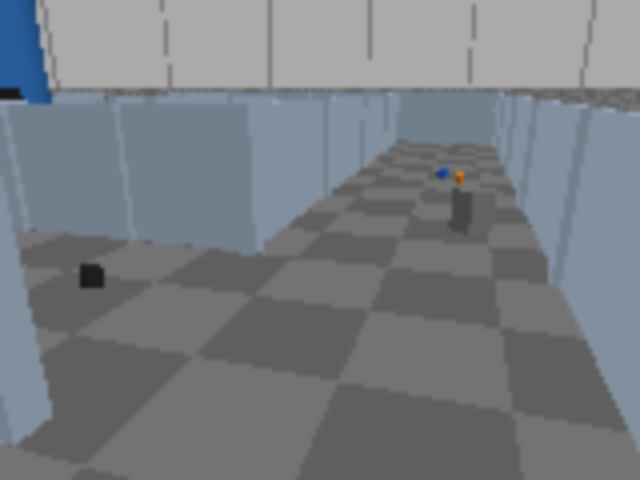obstacle: (449, 186, 497, 236)
puck: (80, 262, 103, 290)
